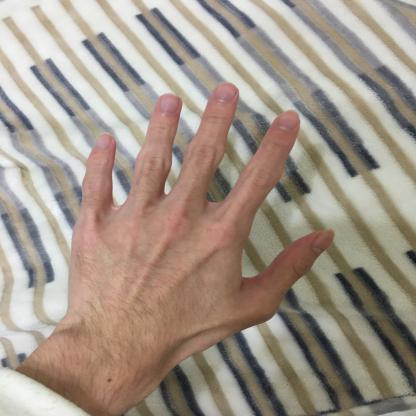bare_hand: (65, 69, 353, 377)
